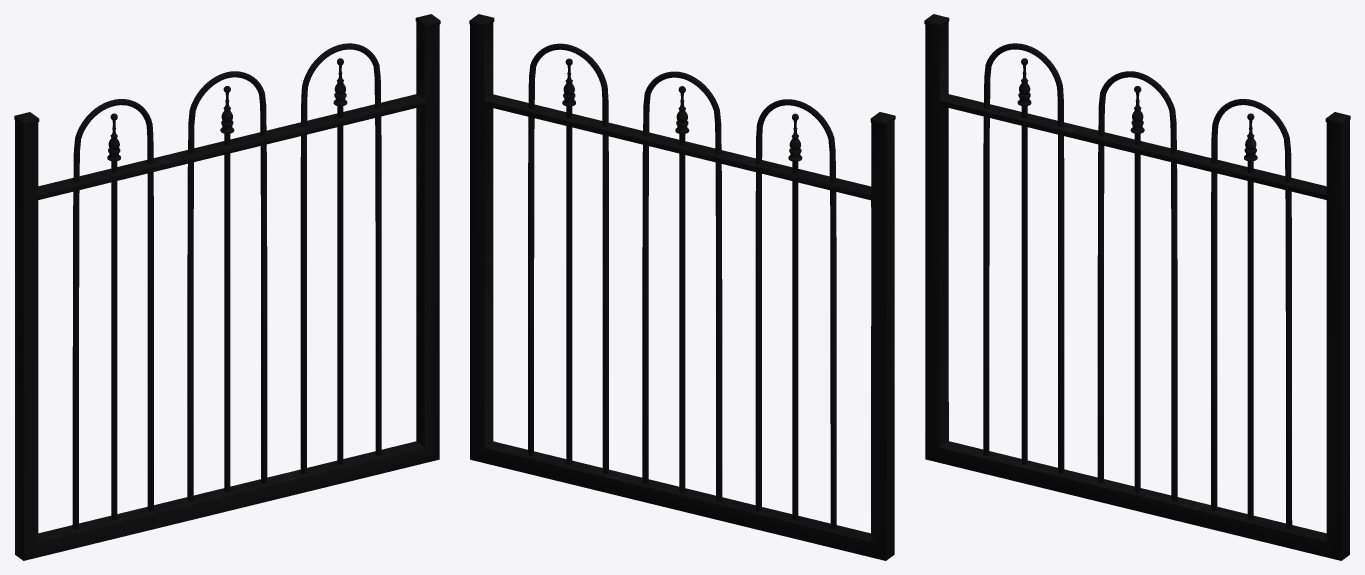
File: cast_iron_fence_02_87468baa.glb
3 renders of one model, left to right at view 1: azimuth 30°, elevation 25°; view 2: azimuth 150°, elevation 25°; view 3: azimuth 330°, elevation 25°, orthographic.
Visible parts, largest first — view 1: cast_iron_fence_02_87468baa; view 2: cast_iron_fence_02_87468baa; view 3: cast_iron_fence_02_87468baa.
Boxes of the visible parts, bbox=[...] form: cast_iron_fence_02_87468baa: bbox=[14, 14, 440, 560]; cast_iron_fence_02_87468baa: bbox=[469, 14, 895, 560]; cast_iron_fence_02_87468baa: bbox=[924, 14, 1350, 560].
Size of the model in its own units: 1.49 by 1.5 by 0.0573.
Materials: 1 (1 with a texture image).
